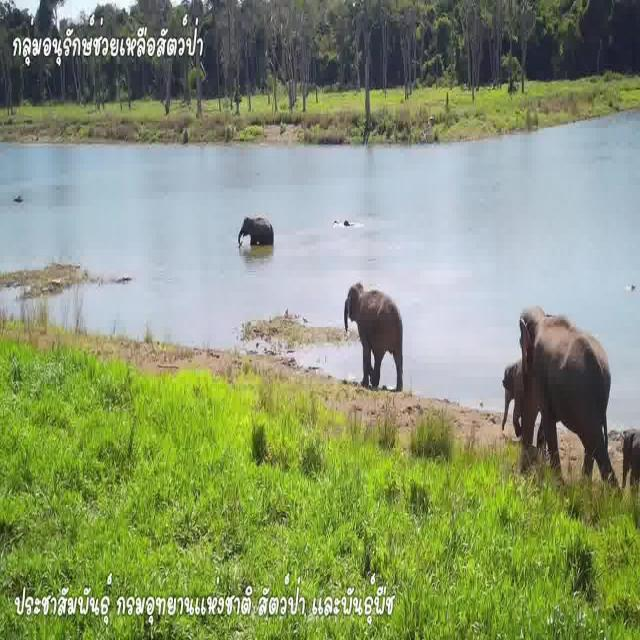Elephant: (520, 298, 607, 449), (342, 277, 401, 373), (234, 205, 278, 251), (501, 358, 528, 417), (623, 423, 640, 473)
